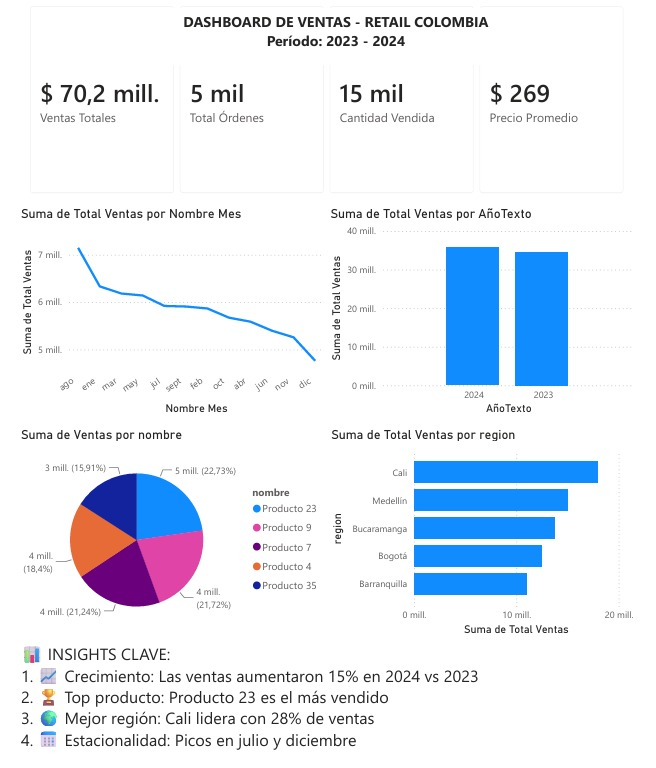

This screenshot's page, from the dashboard's own definition file:
{"tool":"powerbi","page":{"name":"Página 1","canvas":[816,1056],"ordinal":0},"visuals":[{"type":"cardVisual","fields":{"Data":["ventas.Ventas Totales","ventas.Total Órdenes","ventas.Cantidad Vendida","ventas.Precio Promedio"]},"box":[0,0,815.7,280],"z":0},{"type":"lineChart","fields":{"Y":["Sum(Ventas por Mes.Total Ventas)"],"Category":["Ventas por Mes.Nombre Mes"]},"box":[0,280,408.3,280],"z":1},{"type":"clusteredColumnChart","fields":{"Y":["Sum(Ventas por Año.Total Ventas)"],"Category":["Ventas por Año.AñoTexto"]},"box":[407.1,280,408.6,280],"z":2},{"type":"pieChart","fields":{"Category":["Top Productos.nombre"],"Y":["Sum(Top Productos.Ventas)"]},"box":[0,570,408,280],"z":3},{"type":"clusteredBarChart","fields":{"Category":["Ventas por Región.region"],"Y":["Sum(Ventas por Región.Total Ventas)"]},"box":[407.5,570,407.5,280],"z":4},{"type":"textbox","box":[0,860,408,196],"z":5},{"type":"textbox","box":[193.3,20,451.7,75],"z":6},{"type":"textbox","box":[0,850,621.7,170],"z":7}]}

Visuals, with their boxes on the page's 816x1056 design canvas (x1, y1, x2, y2). These are canvas units, not pixel positions in the 656x768 screenshot, which may show the page scaled, cropped or inside an application window:
cardVisual - ventas.Ventas Totales x ventas.Total Órdenes: (left=0, top=0, right=816, bottom=280)
lineChart - Sum(Ventas por Mes.Total Ventas) x Ventas por Mes.Nombre Mes: (left=0, top=280, right=408, bottom=560)
clusteredColumnChart - Sum(Ventas por Año.Total Ventas) x Ventas por Año.AñoTexto: (left=407, top=280, right=816, bottom=560)
pieChart - Top Productos.nombre x Sum(Top Productos.Ventas): (left=0, top=570, right=408, bottom=850)
clusteredBarChart - Ventas por Región.region x Sum(Ventas por Región.Total Ventas): (left=408, top=570, right=815, bottom=850)
textbox: (left=0, top=860, right=408, bottom=1056)
textbox: (left=193, top=20, right=645, bottom=95)
textbox: (left=0, top=850, right=622, bottom=1020)
